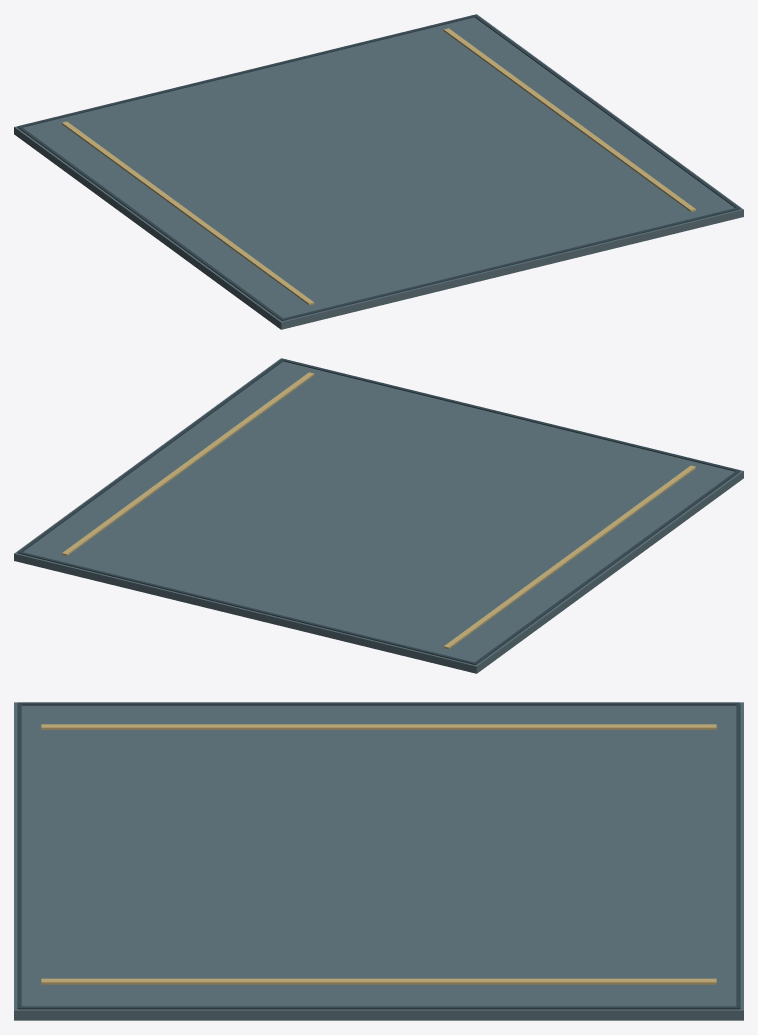
Rendered from ground-industrial-low.glb.
3 renders of one model, top to bottom at view 1: azimuth 30°, elevation 25°; view 2: azimuth 150°, elevation 25°; view 3: azimuth 270°, elevation 25°, orthographic. The views are drawn at different scales.
Parts seen in each view (by area): view 1: asset_ground-industrial__FP_Baked; view 2: asset_ground-industrial__FP_Baked; view 3: asset_ground-industrial__FP_Baked.
Part boxes in pixels (x1,y1,x2,y2): asset_ground-industrial__FP_Baked: (14, 14, 743, 329); asset_ground-industrial__FP_Baked: (14, 358, 743, 673); asset_ground-industrial__FP_Baked: (14, 702, 743, 1020).
Size of the model in its own units: 4 by 0.08 by 4.
